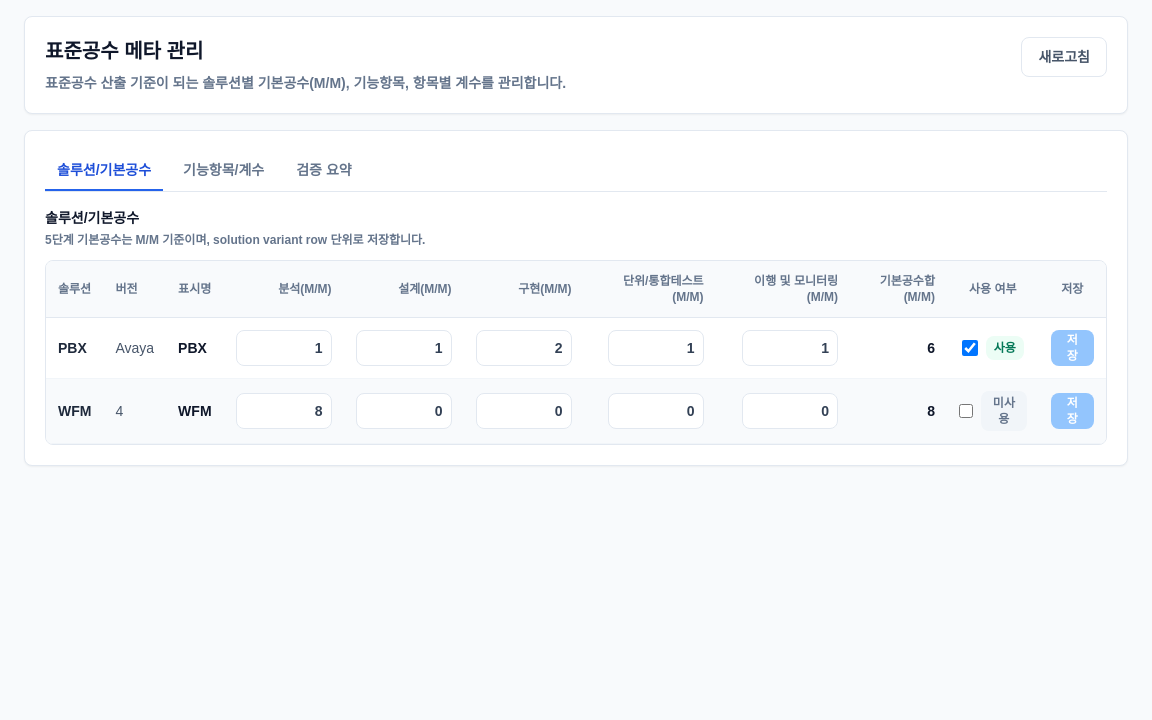
Test case: StandardEffortMetaPage › rolls back a solution variant active toggle when save fails
Click the checkbox named "PBX 사용 여부".
click(970, 348)  # box [962,340,978,356]
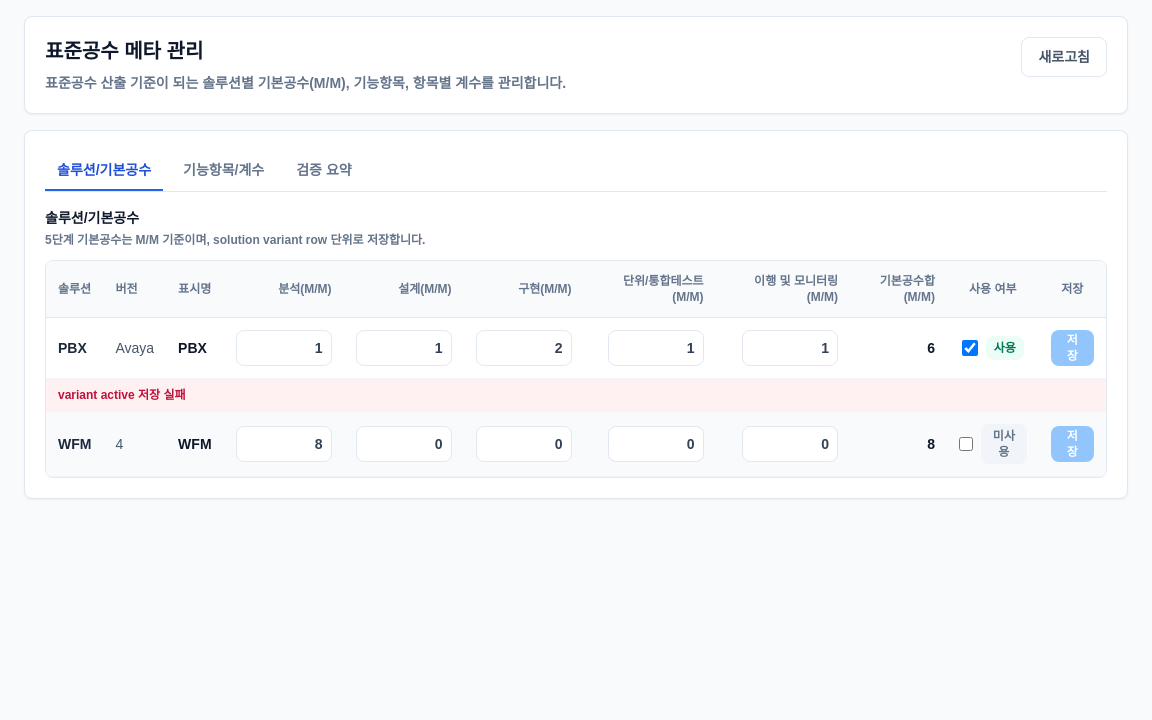
Now the text "variant active 저장 실패" is shown, box [46,378,1106,412]
